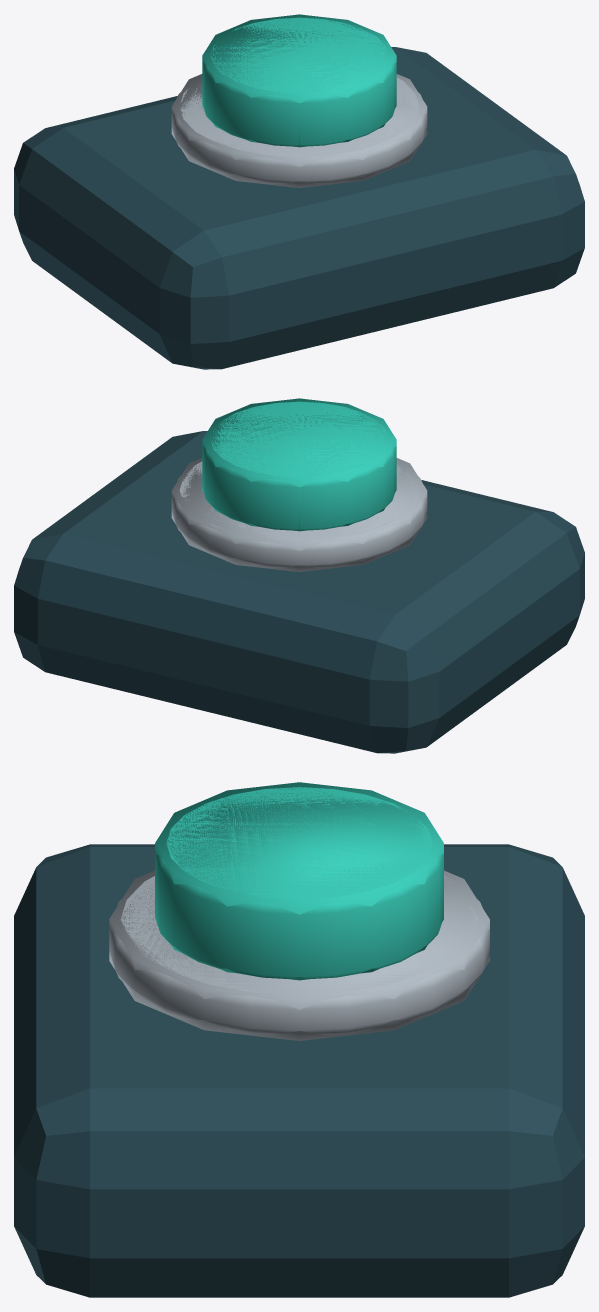
File: panel-view-one.glb
3 views of the same model, one above another, from view 1: azimuth 30°, elevation 25°; view 2: azimuth 150°, elevation 25°; view 3: azimuth 270°, elevation 25° (orthographic). The views are drawn at different scales.
Parts seen in each view (by area): view 1: housing, cap, socket, cap.001, socket.001; view 2: housing, cap, socket, cap.001, socket.001; view 3: housing, cap, cap.001, socket, socket.001.
Part boxes in pixels (left/top/right/bottom): housing: left=14, top=47, right=584, bottom=369; cap: left=202, top=17, right=396, bottom=146; socket: left=171, top=77, right=427, bottom=184; cap.001: left=202, top=14, right=396, bottom=147; socket.001: left=171, top=74, right=427, bottom=187; housing: left=14, top=431, right=584, bottom=753; cap: left=202, top=401, right=396, bottom=530; socket: left=171, top=461, right=427, bottom=568; cap.001: left=202, top=398, right=396, bottom=531; socket.001: left=171, top=458, right=427, bottom=571; housing: left=14, top=844, right=584, bottom=1297; cap: left=155, top=787, right=443, bottom=978; cap.001: left=155, top=782, right=443, bottom=980; socket: left=109, top=876, right=489, bottom=1035; socket.001: left=109, top=870, right=489, bottom=1040.
Size of the model in its own units: 0.095 by 0.048 by 0.075.
